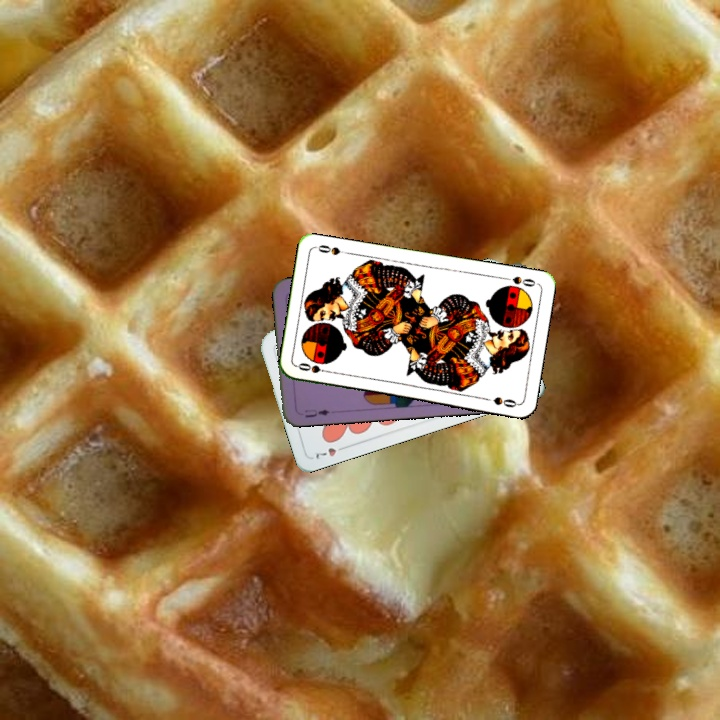EU: (301, 405, 332, 420)
H7: (310, 442, 349, 462)
SO: (294, 359, 334, 376), (499, 272, 539, 289)
